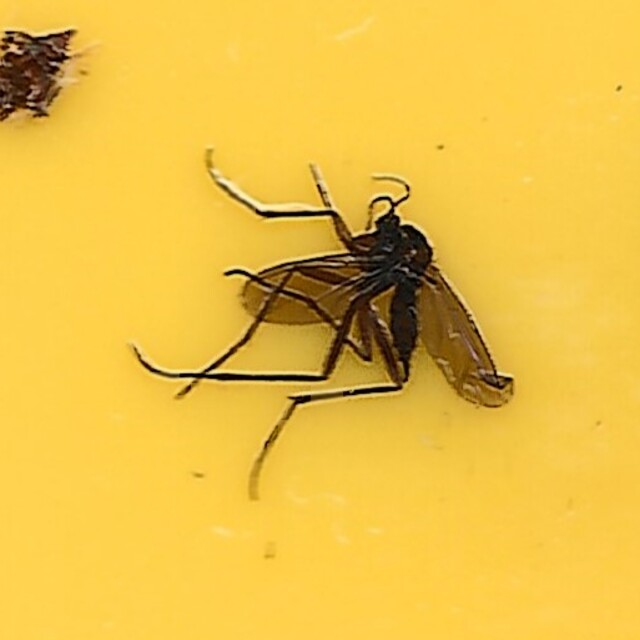Nematocera: (125, 137, 515, 503)
